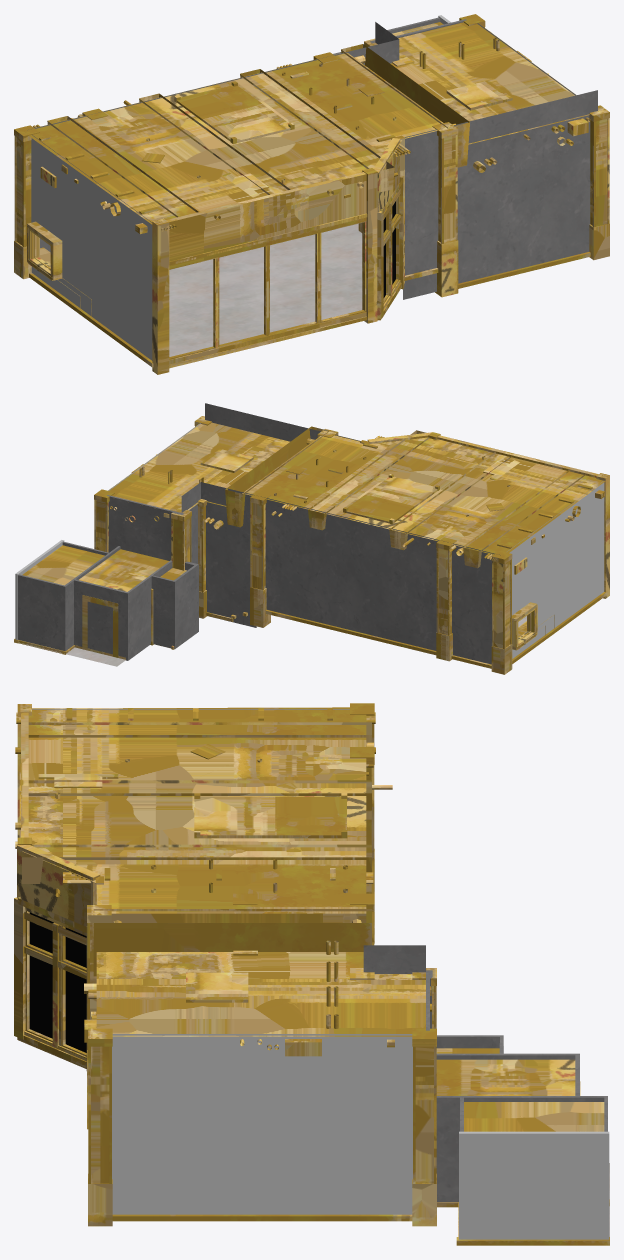
File: levelupdated.fbx
3 renders of one model, top to bottom at view 1: azimuth 30°, elevation 25°; view 2: azimuth 150°, elevation 25°; view 3: azimuth 270°, elevation 25°, orthographic. The views are drawn at different scales.
Visible parts, largest first — view 1: roof, wall_6, fuckingfloor:floor_lower1, wall_2, wall8, windowframe, roofdips, vent8, pillar7, windowseals, pillar11, pillar1 (+10 smaller); view 2: wall_5, roof, backwall, wall_2, roofdips, vent8, pillar1, pillar4, skirtboard, hallroof, pillar2, wall_6 (+12 smaller); view 3: roof, wall_7, roofdips, bathwall, vent8, backwall, doorframe, hallroof, pillar11, pillar10, wall_4, bathroof (+10 smaller).
Part boxes in pixels (bbox=[...]): roof: bbox=[29, 22, 589, 224]; wall_6: bbox=[403, 90, 597, 299]; fuckingfloor:floor_lower1: bbox=[169, 223, 362, 356]; wall_2: bbox=[31, 135, 152, 360]; wall8: bbox=[166, 172, 366, 269]; windowframe: bbox=[152, 168, 377, 374]; roofdips: bbox=[47, 44, 469, 217]; vent8: bbox=[174, 81, 294, 143]; pillar7: bbox=[432, 122, 458, 297]; windowseals: bbox=[169, 189, 399, 359]; pillar11: bbox=[589, 105, 609, 260]; pillar1: bbox=[14, 125, 39, 279]; wall_5: bbox=[181, 482, 500, 664]; roof: bbox=[108, 422, 605, 554]; backwall: bbox=[18, 495, 198, 660]; wall_2: bbox=[507, 481, 604, 658]; roofdips: bbox=[225, 426, 585, 568]; vent8: bbox=[343, 474, 439, 524]; pillar1: bbox=[491, 551, 512, 674]; pillar4: bbox=[250, 492, 270, 627]; skirtboard: bbox=[14, 591, 607, 668]; hallroof: bbox=[79, 549, 169, 591]; pillar2: bbox=[436, 537, 456, 661]; wall_6: bbox=[205, 403, 360, 441]; roof: bbox=[22, 707, 425, 1036]; wall_7: bbox=[112, 1034, 412, 1214]; roofdips: bbox=[22, 722, 371, 976]; bathwall: bbox=[459, 1131, 609, 1239]; vent8: bbox=[194, 793, 347, 838]; backwall: bbox=[426, 970, 607, 1201]; doorframe: bbox=[14, 876, 103, 1070]; hallroof: bbox=[436, 1059, 575, 1095]; pillar11: bbox=[88, 1028, 112, 1226]; pillar10: bbox=[412, 1028, 436, 1226]; wall_4: bbox=[29, 912, 86, 1052]; bathroof: bbox=[464, 1102, 604, 1131].
Bounding box in the file's own units: 2151 × 862 × 1643.
